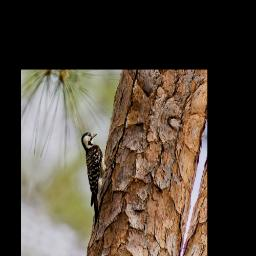Woodpecker: (64, 128, 120, 232)
